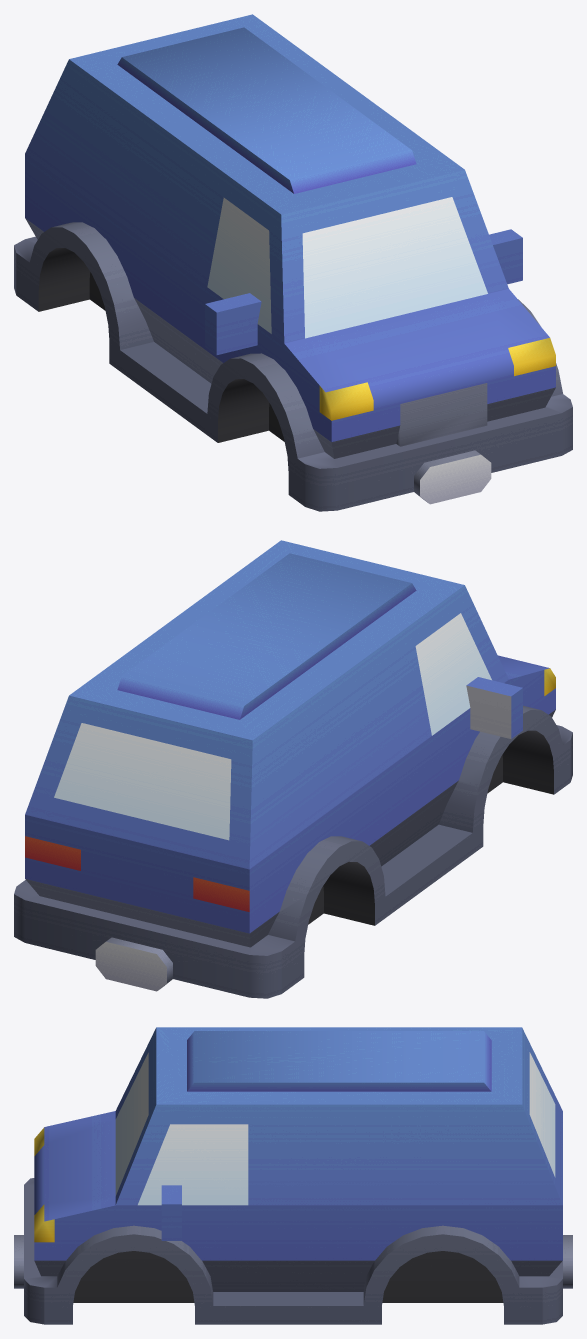
Rendered from van.glb.
3 renders of one model, top to bottom at view 1: azimuth 30°, elevation 25°; view 2: azimuth 150°, elevation 25°; view 3: azimuth 270°, elevation 25°, orthographic. The views are drawn at different scales.
Visible parts, largest first — view 1: Body; view 2: Body; view 3: Body.
Part boxes in pixels (x1,y1,x2,y2): Body: (14, 14, 572, 511); Body: (14, 540, 572, 998); Body: (14, 1027, 572, 1324).
Size of the model in its own units: 1.5 by 1.2 by 2.75.
1 material, 1 textured.
